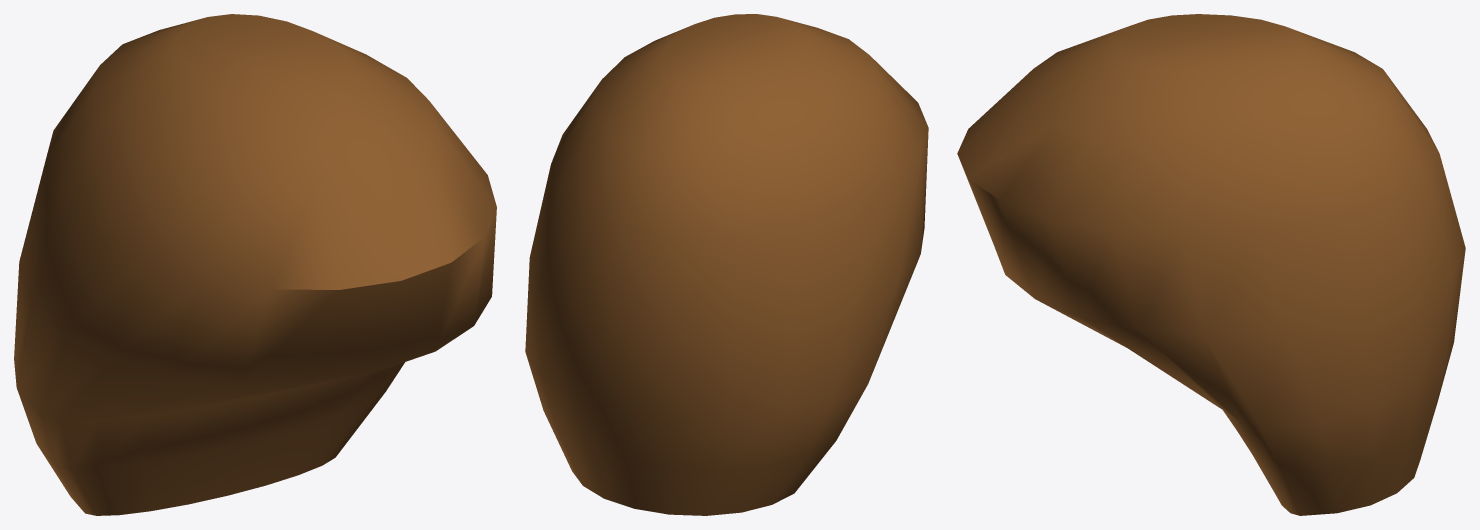
Rendered from npc_hair4.glb.
3 renders of one model, left to right at view 1: azimuth 30°, elevation 25°; view 2: azimuth 150°, elevation 25°; view 3: azimuth 270°, elevation 25°, orthographic. The views are drawn at different scales.
Visible parts, largest first — view 1: npc_hair4; view 2: npc_hair4; view 3: npc_hair4.
Part boxes in pixels (left/top/right/bottom): npc_hair4: left=14, top=14, right=496, bottom=515; npc_hair4: left=525, top=14, right=928, bottom=515; npc_hair4: left=957, top=14, right=1465, bottom=515.
Bounding box in the file's own units: 0.157 × 0.1765 × 0.195.
